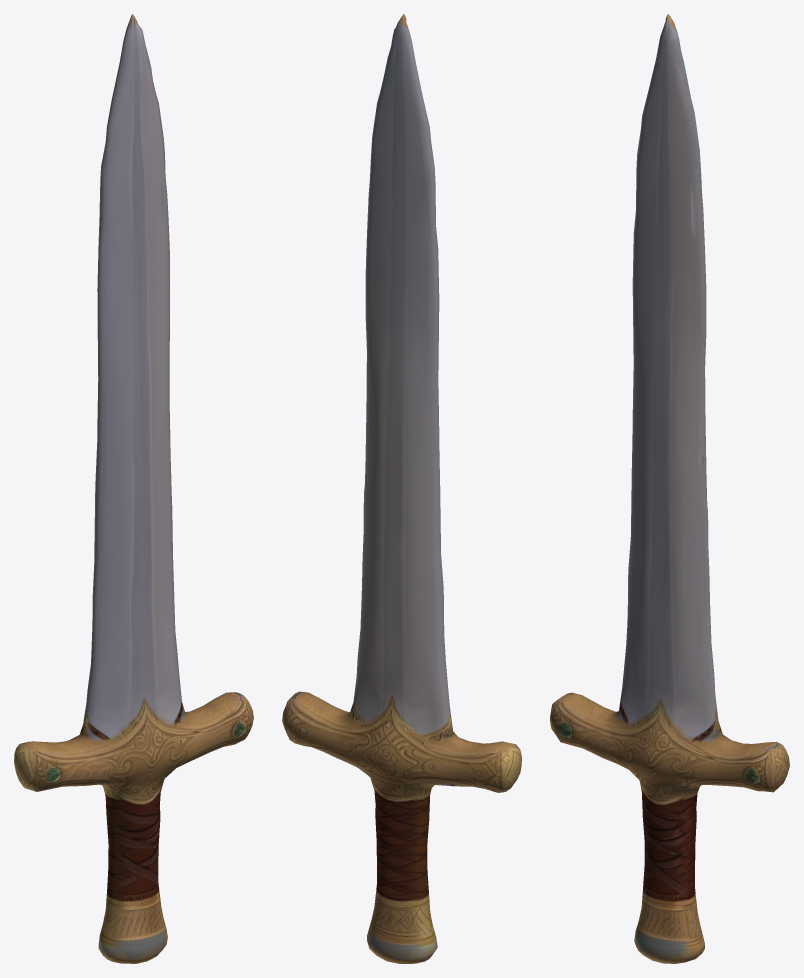
File: ShortSword.fbx
3 views of the same model, side by side, from view 1: azimuth 30°, elevation 25°; view 2: azimuth 150°, elevation 25°; view 3: azimuth 330°, elevation 25° (orthographic).
Parts seen in each view (by area): view 1: ShortSword; view 2: ShortSword; view 3: ShortSword.
Part boxes in pixels (<box>): ShortSword: <box>14,14,253,963</box>; ShortSword: <box>282,14,521,963</box>; ShortSword: <box>550,14,789,963</box>.
Size of the model in its own units: 22.94 by 90.31 by 6.76.
1 material, 1 textured.
